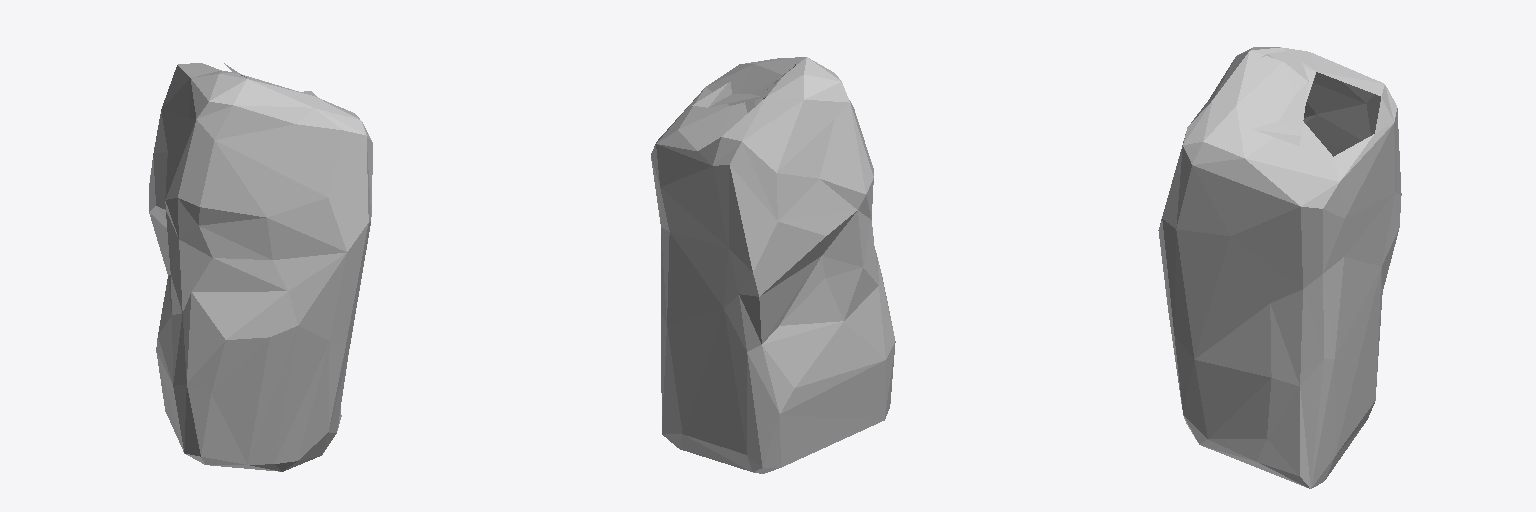
Rendered from LeftHand.obj.
3 views of the same model, side by side, from view 1: azimuth 30°, elevation 25°; view 2: azimuth 150°, elevation 25°; view 3: azimuth 270°, elevation 25° (orthographic).
Parts seen in each view (by area): view 1: Stone:Mesh; view 2: Stone:Mesh; view 3: Stone:Mesh.
Part boxes in pixels (x1,y1,x2,y2): Stone:Mesh: (149,63,372,471); Stone:Mesh: (651,57,895,473); Stone:Mesh: (1158,47,1401,488).
Size of the model in its own units: 2.44 by 4.52 by 2.56.